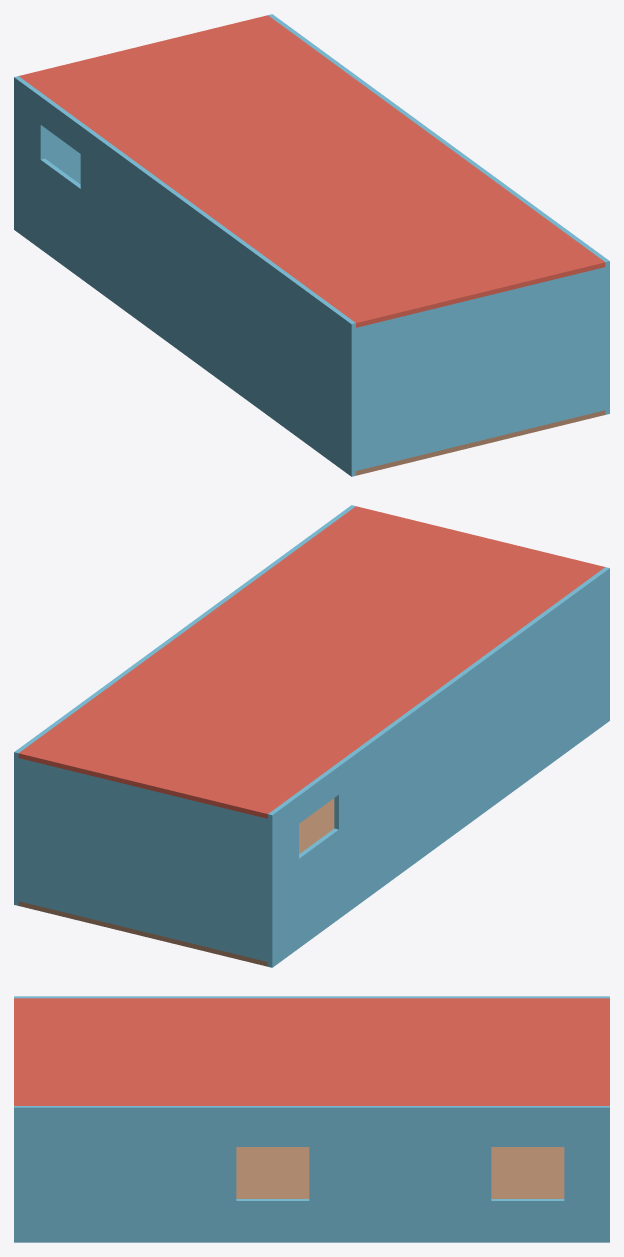
Rendered from Classroom.fbx.
The picture shows the model from 3 angles, top to bottom: view 1: azimuth 30°, elevation 25°; view 2: azimuth 150°, elevation 25°; view 3: azimuth 270°, elevation 25°; orthographic projection. The views are drawn at different scales.
Visible parts, largest first — view 1: Class Room.006; view 2: Class Room.006; view 3: Class Room.006.
Part boxes in pixels (<box>): Class Room.006: <box>14,14,609,476</box>; Class Room.006: <box>14,505,609,967</box>; Class Room.006: <box>14,996,609,1242</box>.
Size of the model in its own units: 603 by 341 by 1365.
